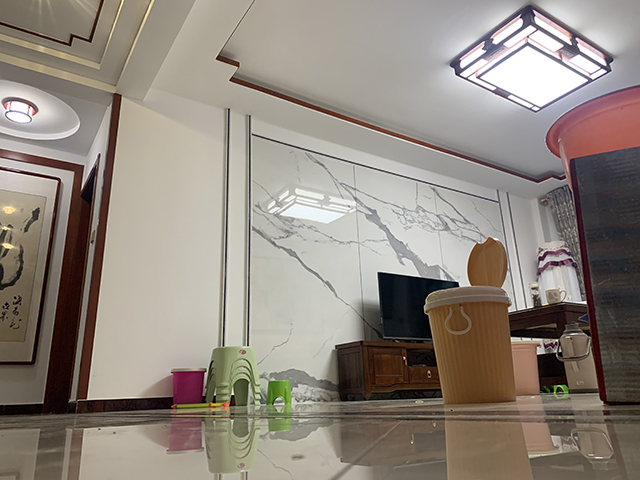cabinet: (335, 339, 441, 401)
stool: (205, 346, 262, 407), (266, 379, 291, 406)
trashcan: (422, 236, 518, 404), (511, 339, 540, 396), (170, 367, 207, 404)
